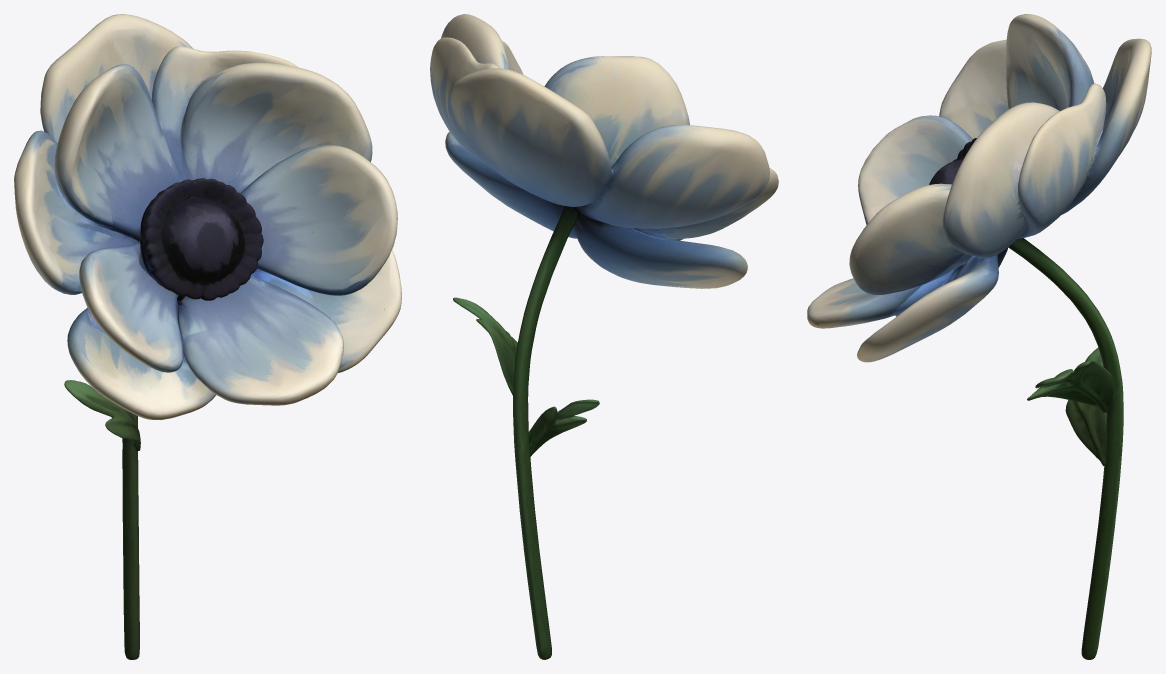
Rendered from white_anemone.glb.
3 views of the same model, side by side, from view 1: azimuth 30°, elevation 25°; view 2: azimuth 150°, elevation 25°; view 3: azimuth 270°, elevation 25° (orthographic). The views are drawn at different scales.
Size of the model in its own units: 1.09 by 1.9 by 0.9551.
Materials: 1 (1 with a texture image).
